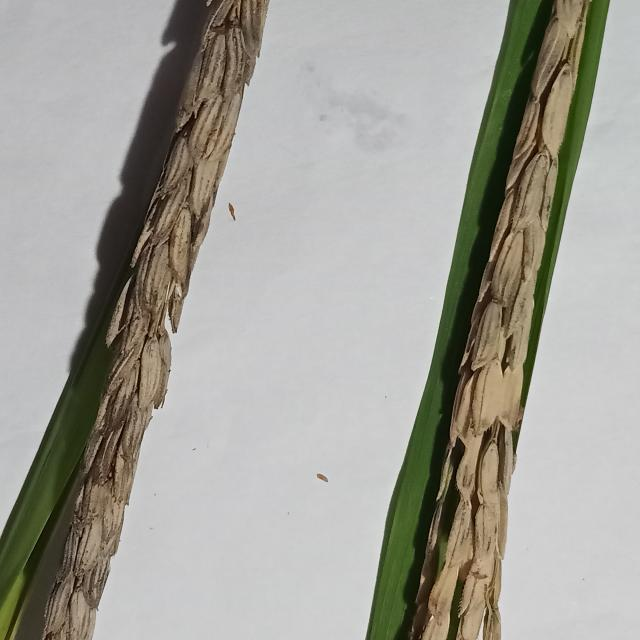Neck_Blast: (0, 0, 264, 640), (403, 2, 588, 640)
